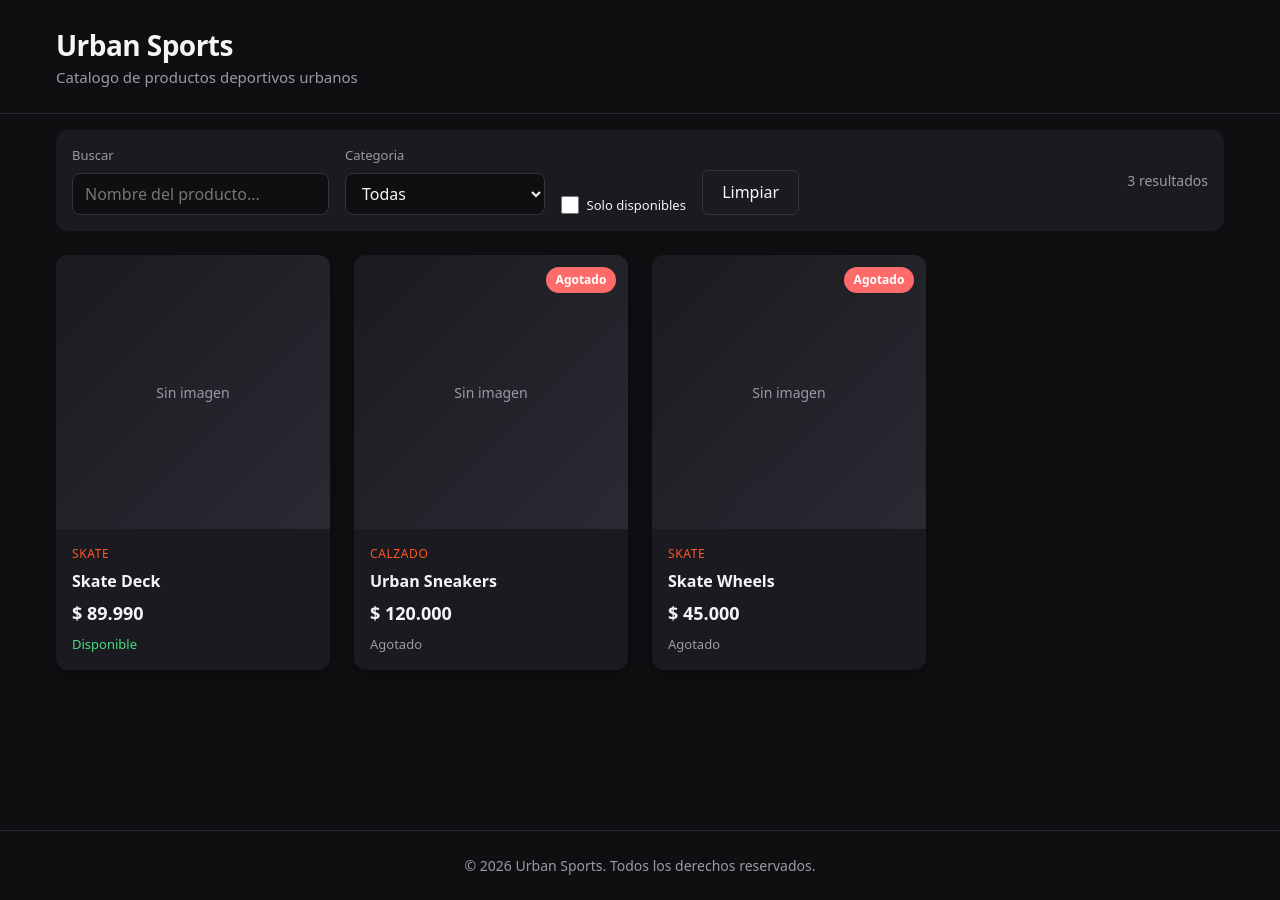
Test: App - filtros (integracion) › filtra solo disponibles con el checkbox
Check: the heading "Skate Deck" is shown, box [72,570,160,592]
Click the checkbox labelled "Solo disponibles": (570, 205) [561,196,579,214]
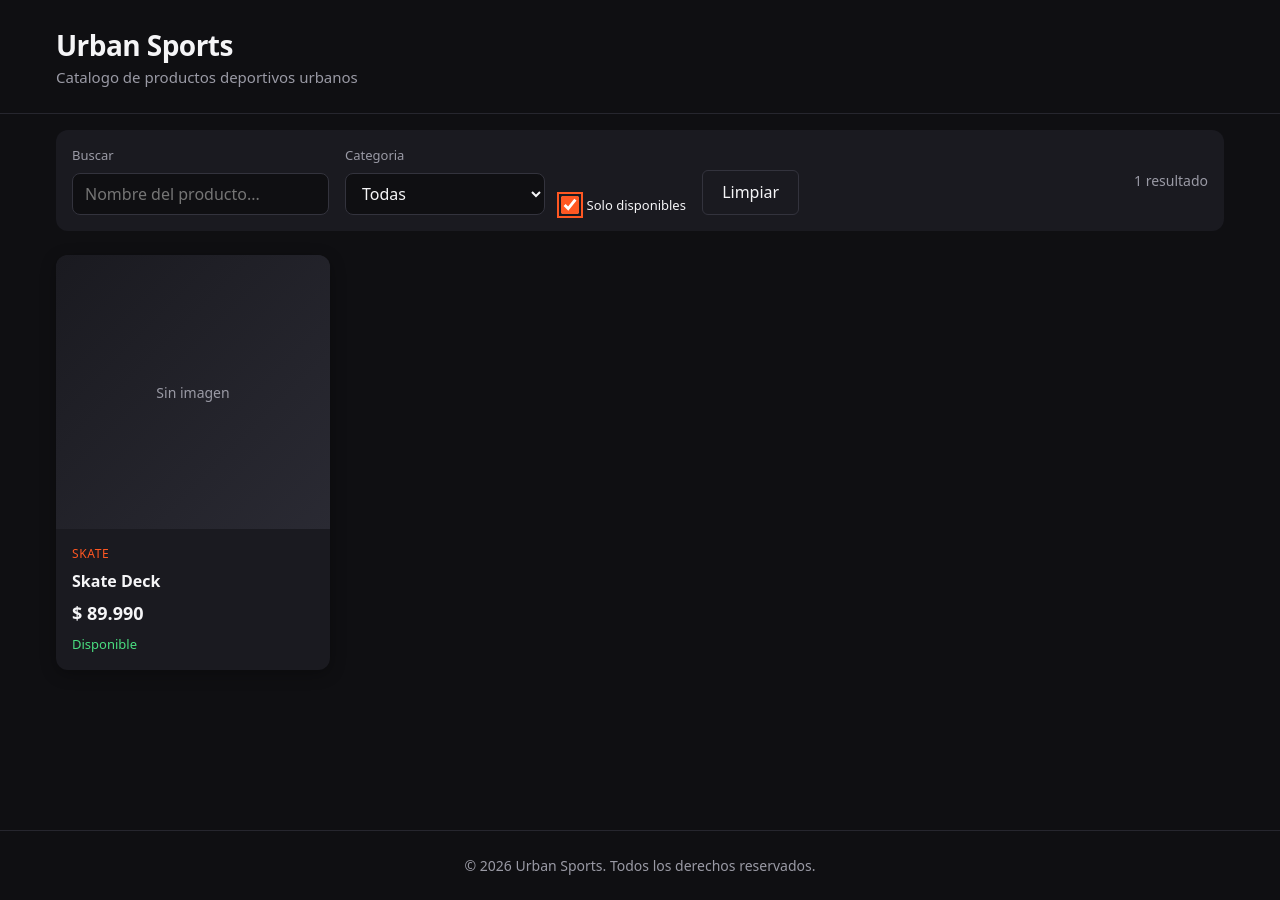
Check: the heading "Skate Deck" is shown, box [72,570,160,592]
Check: the heading "Urban Sneakers" is gone
Check: the heading "Skate Wheels" is gone
